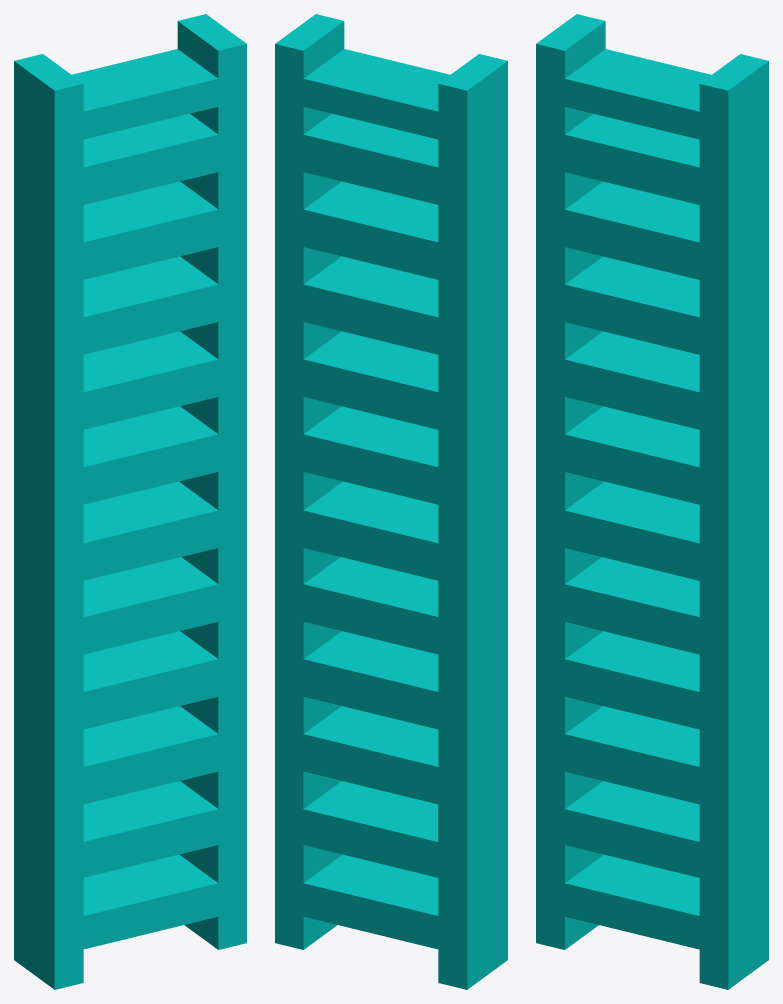
File: LadderRough.fbx
3 renders of one model, left to right at view 1: azimuth 30°, elevation 25°; view 2: azimuth 150°, elevation 25°; view 3: azimuth 330°, elevation 25°, orthographic.
Parts seen in each view (by area): view 1: ladderrough; view 2: ladderrough; view 3: ladderrough.
Part boxes in pixels (bbox=[...]): ladderrough: bbox=[14, 14, 246, 989]; ladderrough: bbox=[275, 14, 507, 989]; ladderrough: bbox=[536, 14, 768, 989].
Size of the model in its own units: 200 by 894 by 74.01.
